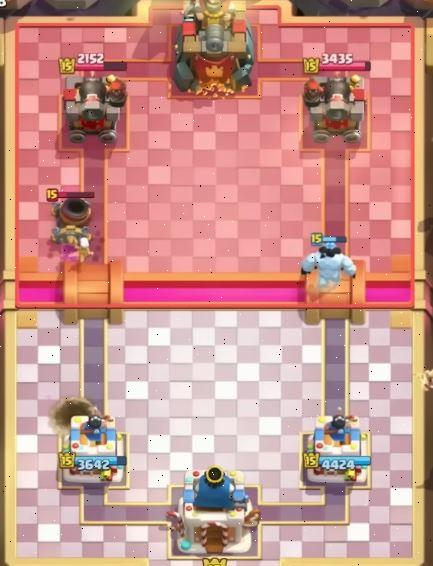ECannoneerTower: (60, 59, 127, 143), (303, 71, 365, 142)
EKingTower: (173, 0, 253, 95)
EMorter: (46, 188, 94, 237)
OIceGolem: (300, 236, 356, 294)
OLarry: (71, 234, 96, 261)
OwnKingTower: (167, 465, 259, 555)
OwnPrincessTower: (58, 415, 125, 487), (303, 416, 371, 483)
